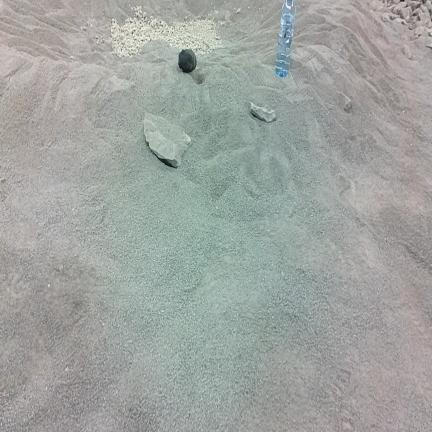Rock: (143, 114, 191, 167), (251, 103, 275, 122), (179, 50, 196, 72), (338, 92, 352, 112), (400, 7, 412, 21), (394, 2, 406, 14), (370, 0, 383, 10), (414, 26, 424, 37), (402, 46, 411, 58), (412, 21, 425, 29), (410, 0, 420, 10), (407, 16, 419, 24), (420, 5, 429, 15), (382, 13, 390, 22), (388, 4, 396, 13), (425, 0, 431, 12), (389, 13, 398, 19), (377, 5, 385, 11), (225, 11, 230, 20), (401, 19, 408, 25), (425, 29, 431, 36), (395, 17, 402, 23), (426, 22, 432, 28), (426, 43, 431, 49), (393, 0, 400, 4), (214, 10, 219, 15), (0, 178, 5, 183), (427, 22, 431, 28), (236, 8, 240, 13)
